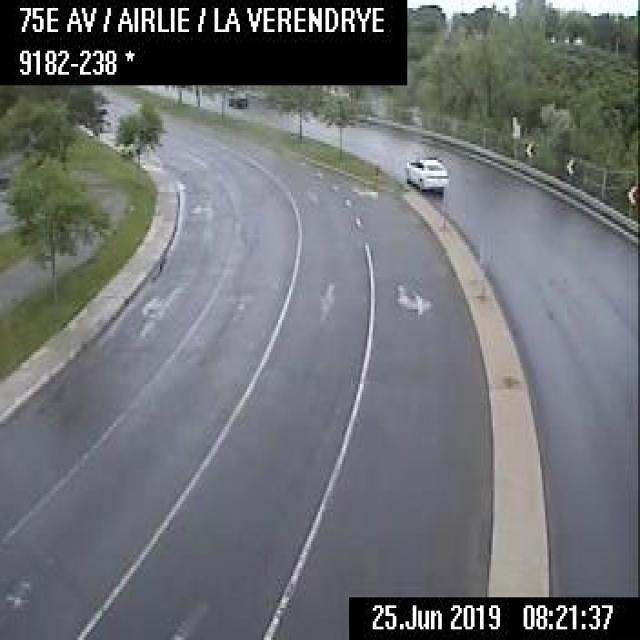vehicle: (402, 152, 449, 190), (225, 91, 249, 108)
